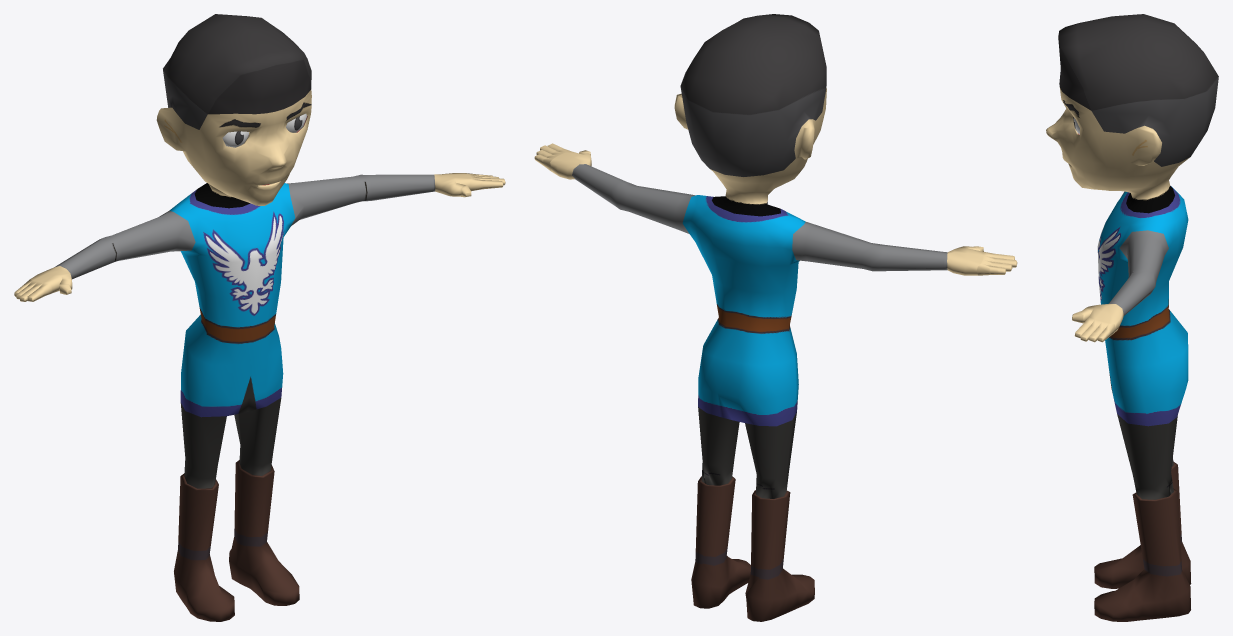
The model's file is Warrior.fbx.
The picture shows the model from 3 angles, left to right: view 1: azimuth 30°, elevation 25°; view 2: azimuth 150°, elevation 25°; view 3: azimuth 270°, elevation 25°; orthographic projection.
Visible parts, largest first — view 1: warrior; view 2: warrior; view 3: warrior.
Part boxes in pixels (left/top/right/bottom): warrior: left=14, top=14, right=505, bottom=621; warrior: left=534, top=14, right=1017, bottom=621; warrior: left=1046, top=14, right=1218, bottom=621.
Size of the model in its own units: 2.47 by 0.763 by 2.81.
1 material, 1 textured.
